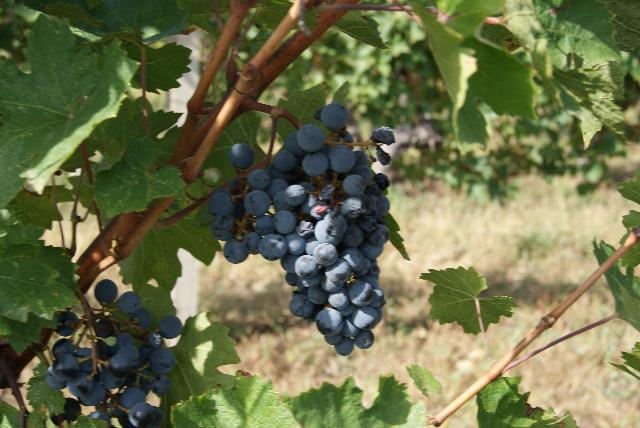grapes: (208, 102, 390, 355), (45, 280, 182, 428)
